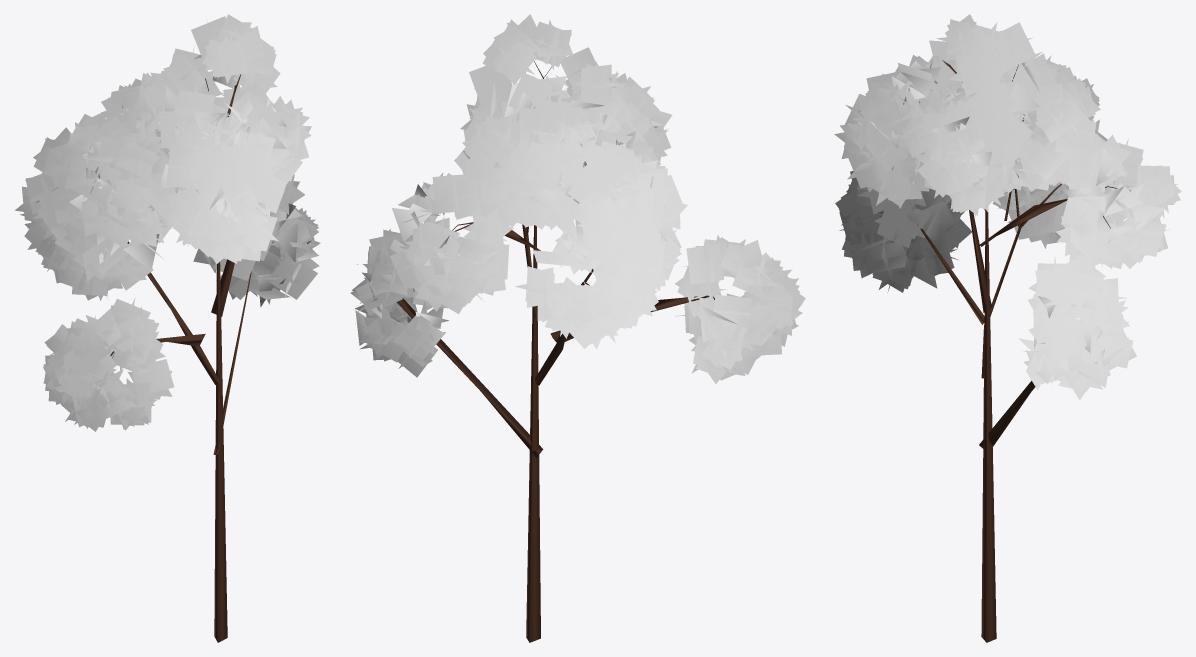
The model's file is Tree1Lod2.fbx.
The picture shows the model from 3 angles, left to right: view 1: azimuth 30°, elevation 25°; view 2: azimuth 150°, elevation 25°; view 3: azimuth 270°, elevation 25°; orthographic projection.
Visible parts, largest first — view 1: leaves.002, Trunk.002; view 2: leaves.002, Trunk.002; view 3: leaves.002, Trunk.002.
Part boxes in pixels (left/top/right/bottom): leaves.002: left=15, top=14, right=320, bottom=431; Trunk.002: left=110, top=74, right=251, bottom=642; leaves.002: left=350, top=14, right=805, bottom=383; Trunk.002: left=397, top=61, right=714, bottom=642; leaves.002: left=834, top=14, right=1181, bottom=400; Trunk.002: left=878, top=60, right=1130, bottom=642.
Size of the model in its own units: 420 by 702 by 355.
